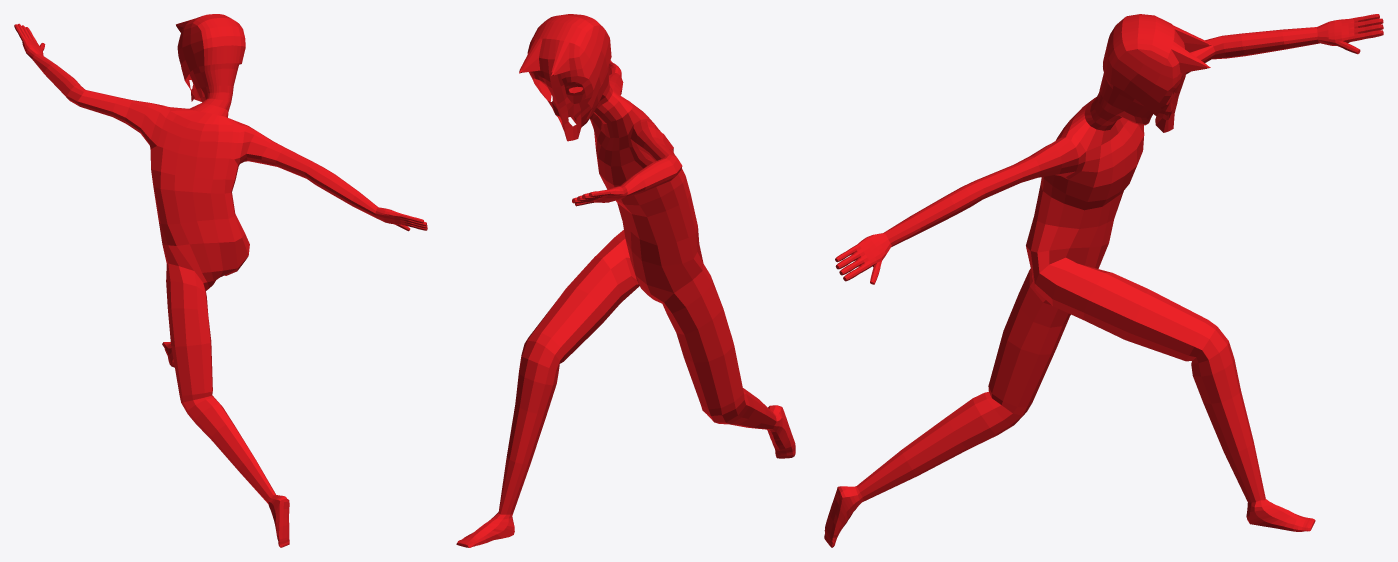
The model's file is saltoadelanteE_000113.obj.
The picture shows the model from 3 angles, left to right: view 1: azimuth 30°, elevation 25°; view 2: azimuth 150°, elevation 25°; view 3: azimuth 270°, elevation 25°; orthographic projection. The views are drawn at different scales.
Parts seen in each view (by area): view 1: Plane.002_Plane.001; view 2: Plane.002_Plane.001; view 3: Plane.002_Plane.001.
Part boxes in pixels (box(x1,y1,x2,y2)): Plane.002_Plane.001: box(14, 14, 427, 547); Plane.002_Plane.001: box(456, 14, 795, 547); Plane.002_Plane.001: box(824, 14, 1383, 547).
Size of the model in its own units: 3.3 by 6.27 by 5.72.
